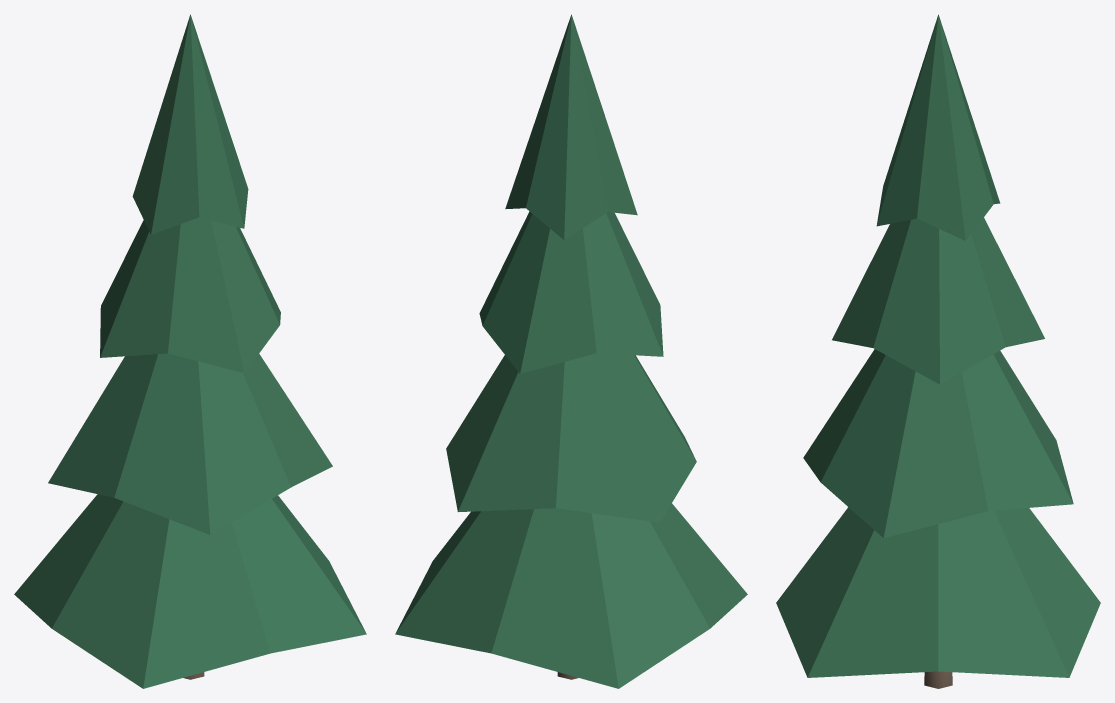
Rendered from fir.glb.
3 views of the same model, side by side, from view 1: azimuth 30°, elevation 25°; view 2: azimuth 150°, elevation 25°; view 3: azimuth 270°, elevation 25° (orthographic).
Visible parts, largest first — view 1: fir; view 2: fir; view 3: fir.
Boxes of the visible parts, <box> form: fir: <box>14,14,366,688</box>; fir: <box>395,14,747,688</box>; fir: <box>776,14,1100,688</box>.
Size of the model in its own units: 5.2 by 11.8 by 5.2.
